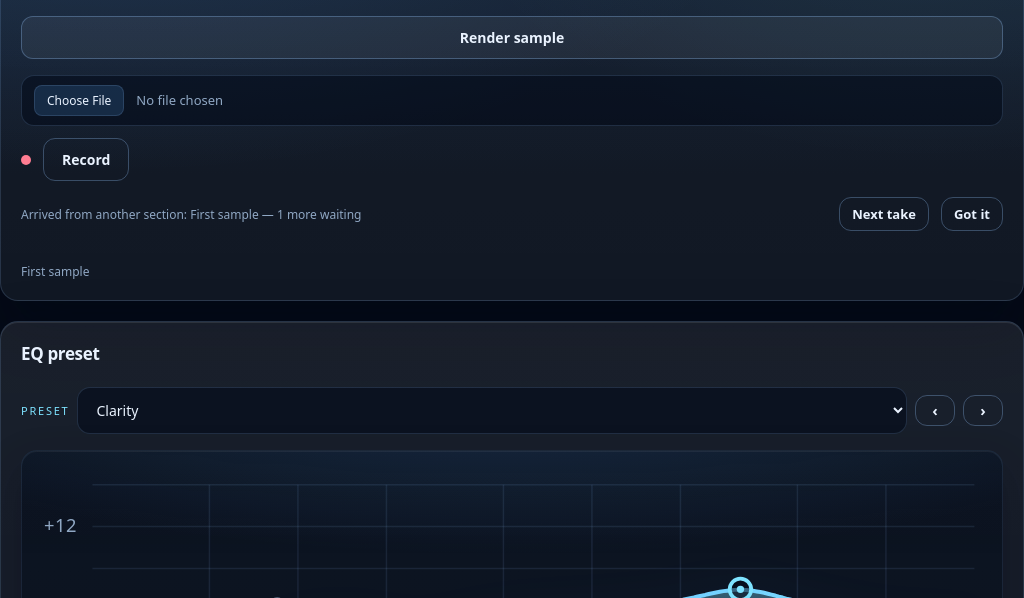
Shape hand-off › reports the take queued behind the first and takes it in place
(page scrolled)
Expected: the text "Arrived from another section: First sample — 1 more waiting" is shown, [21, 206, 362, 223]
Click the button "Next take": (884, 214) [839, 197, 929, 231]
(page scrolled)
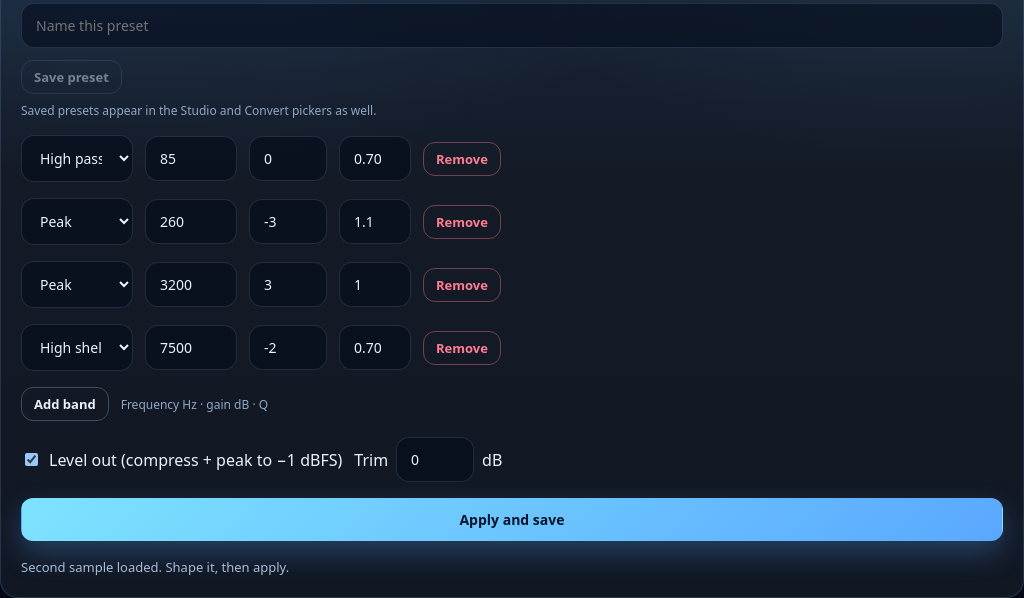
Now the text "Second sample loaded. Shape it, then apply." is shown, box [21, 558, 289, 576]
Now the button "Next take" is gone
